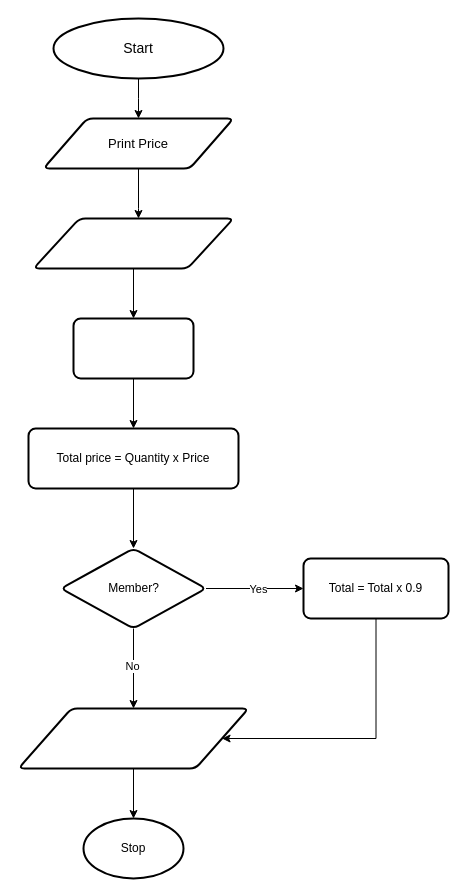
Image size: 466x896. Some labels were removed from this diagram. The centre of each missing label's shape, as x and y in pixels:
"Display amount to pay (RM)" goes at point (133, 738).
"Price = 4.50" goes at point (133, 348).
"Read Quantity" goes at point (133, 243).
